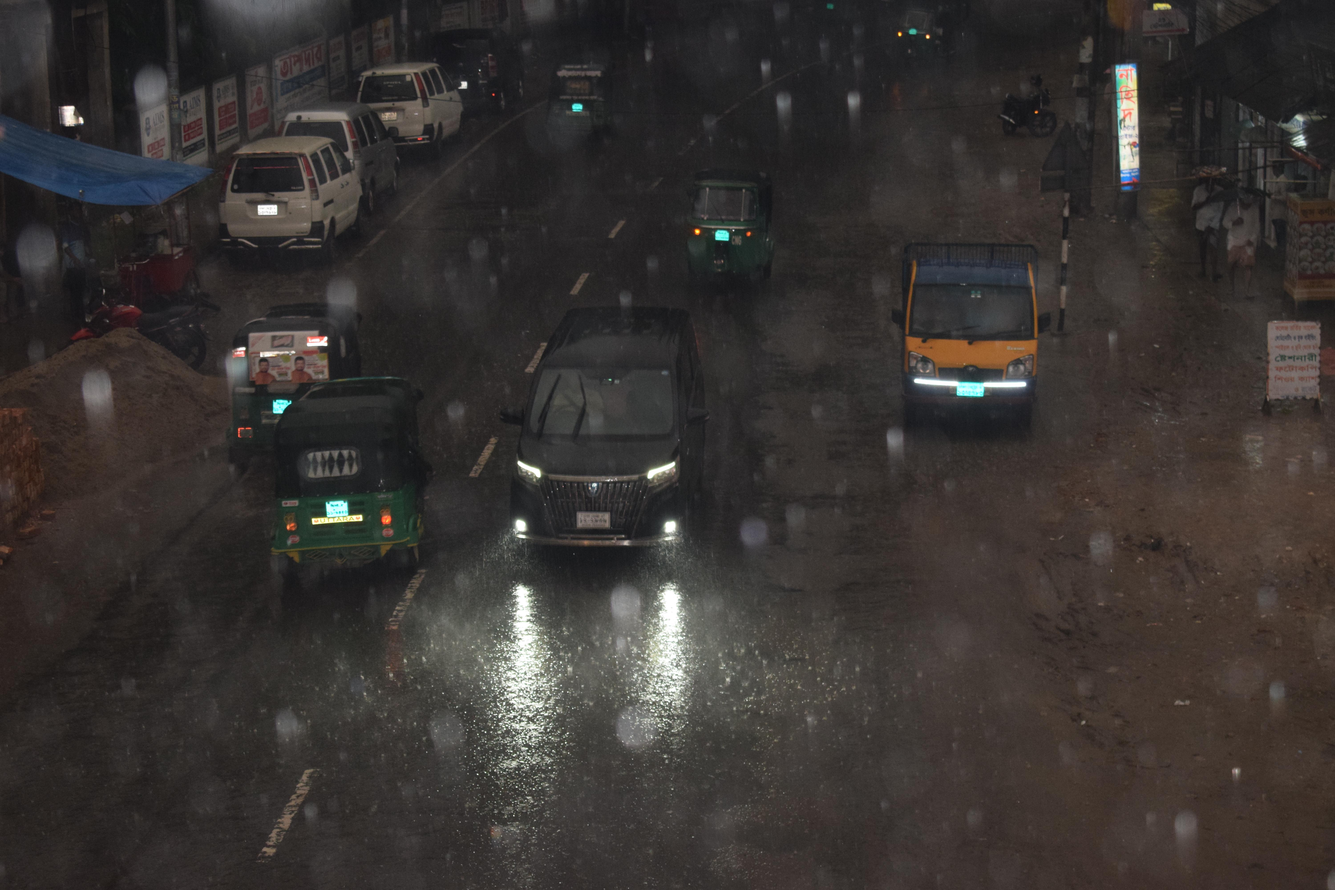Bike: (50, 286, 229, 378)
Car: (459, 282, 744, 598), (186, 106, 396, 273), (344, 30, 487, 171), (275, 89, 421, 221)
Truck: (855, 199, 1080, 470)
